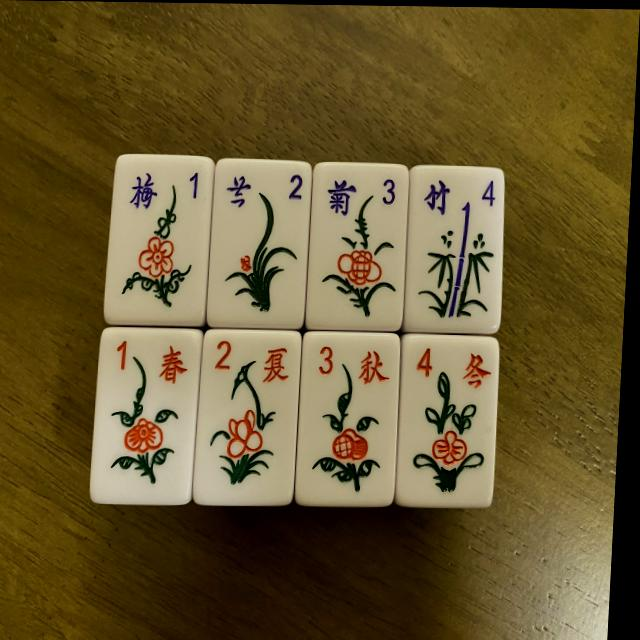f1: (109, 157, 210, 319)
f2: (206, 166, 311, 333)
f3: (299, 334, 399, 512), (311, 159, 414, 330)
f4: (401, 168, 507, 338)
ff1: (98, 332, 195, 501)
ff2: (193, 330, 306, 510)
ff4: (396, 335, 500, 507)
